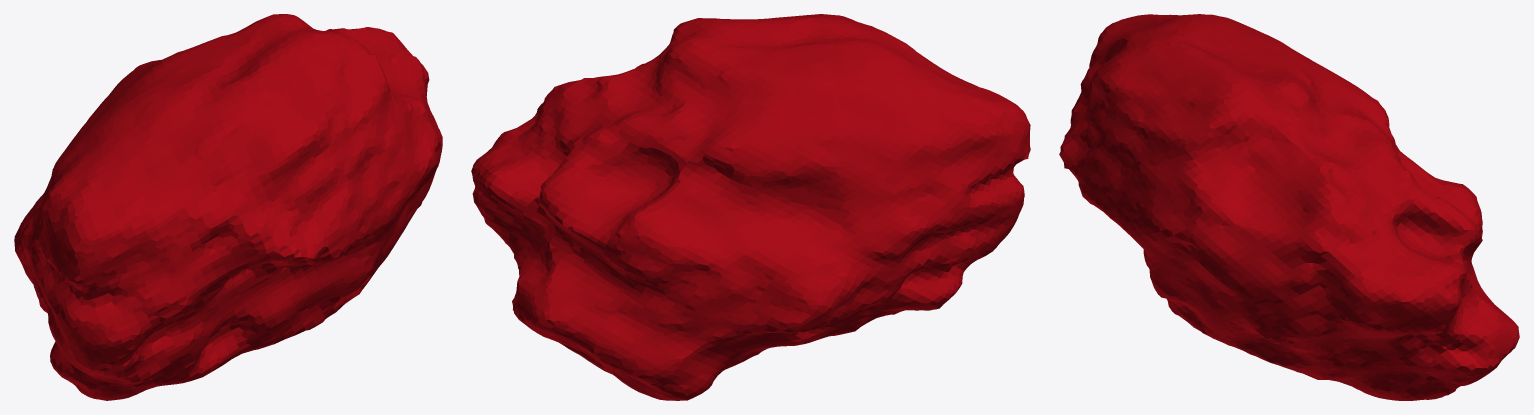
The model's file is asteroidobj.obj.
3 renders of one model, left to right at view 1: azimuth 30°, elevation 25°; view 2: azimuth 150°, elevation 25°; view 3: azimuth 270°, elevation 25°, orthographic. The views are drawn at different scales.
Parts seen in each view (by area): view 1: ASTEROID_LOW_POLY_4__asteroid_04; view 2: ASTEROID_LOW_POLY_4__asteroid_04; view 3: ASTEROID_LOW_POLY_4__asteroid_04.
Boxes of the visible parts, box(x1,y1,x2,y2) form: ASTEROID_LOW_POLY_4__asteroid_04: box(14, 14, 442, 400); ASTEROID_LOW_POLY_4__asteroid_04: box(471, 14, 1030, 400); ASTEROID_LOW_POLY_4__asteroid_04: box(1059, 14, 1519, 400).
Bounding box in the file's own units: 9.74 × 6.56 × 8.47.
